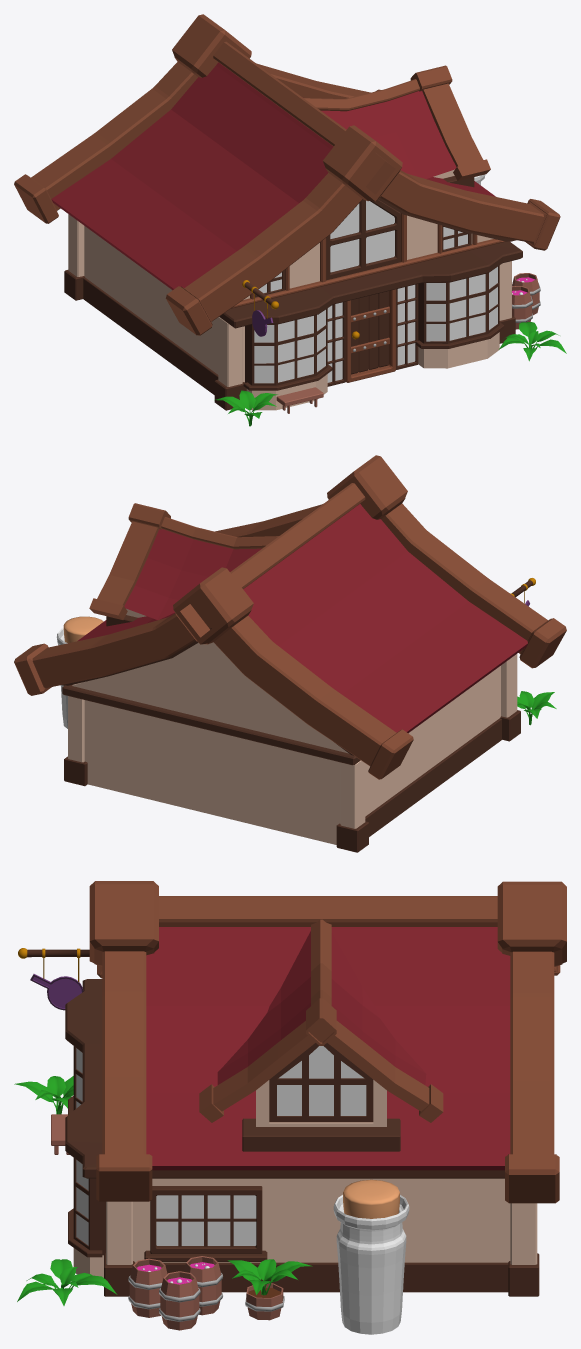
File: PotionShop_Upgrade_3.fbx
3 views of the same model, one above another, from view 1: azimuth 30°, elevation 25°; view 2: azimuth 150°, elevation 25°; view 3: azimuth 270°, elevation 25° (orthographic). The views are drawn at different scales.
Parts seen in each view (by area): view 1: Potion bottle; view 2: Potion bottle; view 3: Potion bottle.
Part boxes in pixels (box(x1,y1,x2,y2)): Potion bottle: box(14, 14, 566, 426); Potion bottle: box(14, 455, 566, 852); Potion bottle: box(14, 881, 566, 1334).
Size of the model in its own units: 739 by 428 by 657.
